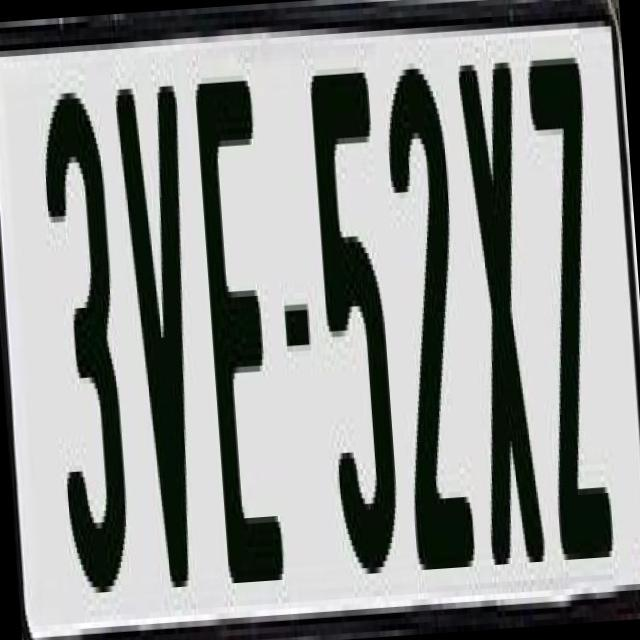2: (380, 54, 480, 558)
3: (34, 91, 134, 624)
5: (304, 54, 398, 558)
E: (192, 62, 290, 577)
V: (113, 73, 220, 606)
X: (454, 56, 548, 594)
Z: (524, 45, 614, 554)
